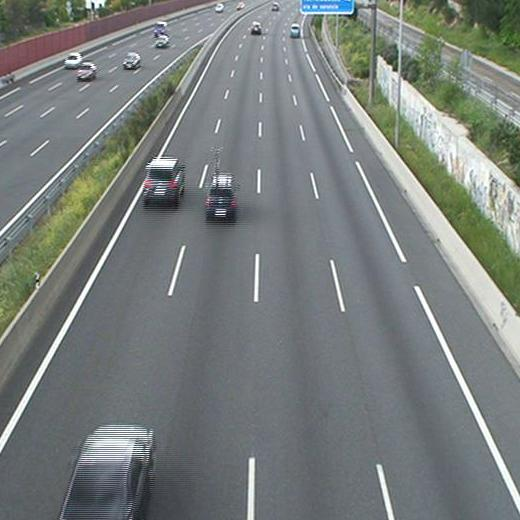car: (59, 424, 155, 520), (142, 157, 186, 209), (206, 172, 239, 224)
